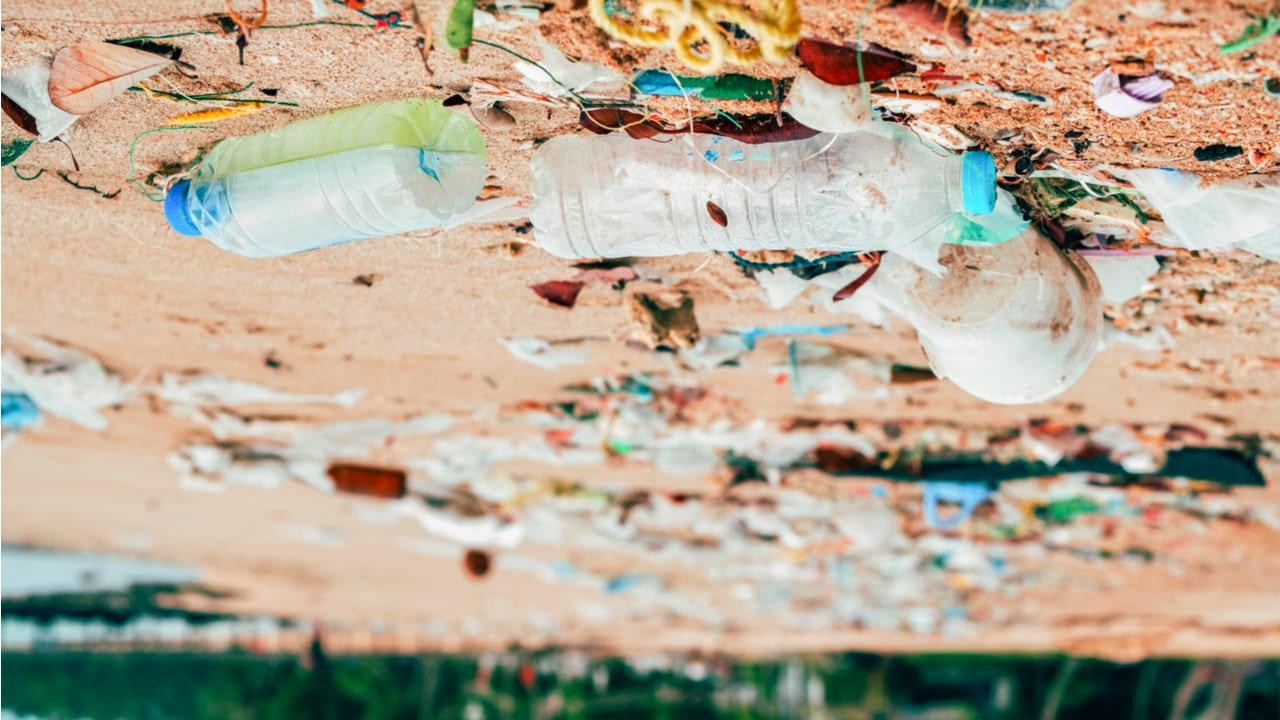Plastic: (504, 87, 1028, 270), (124, 91, 507, 273)
